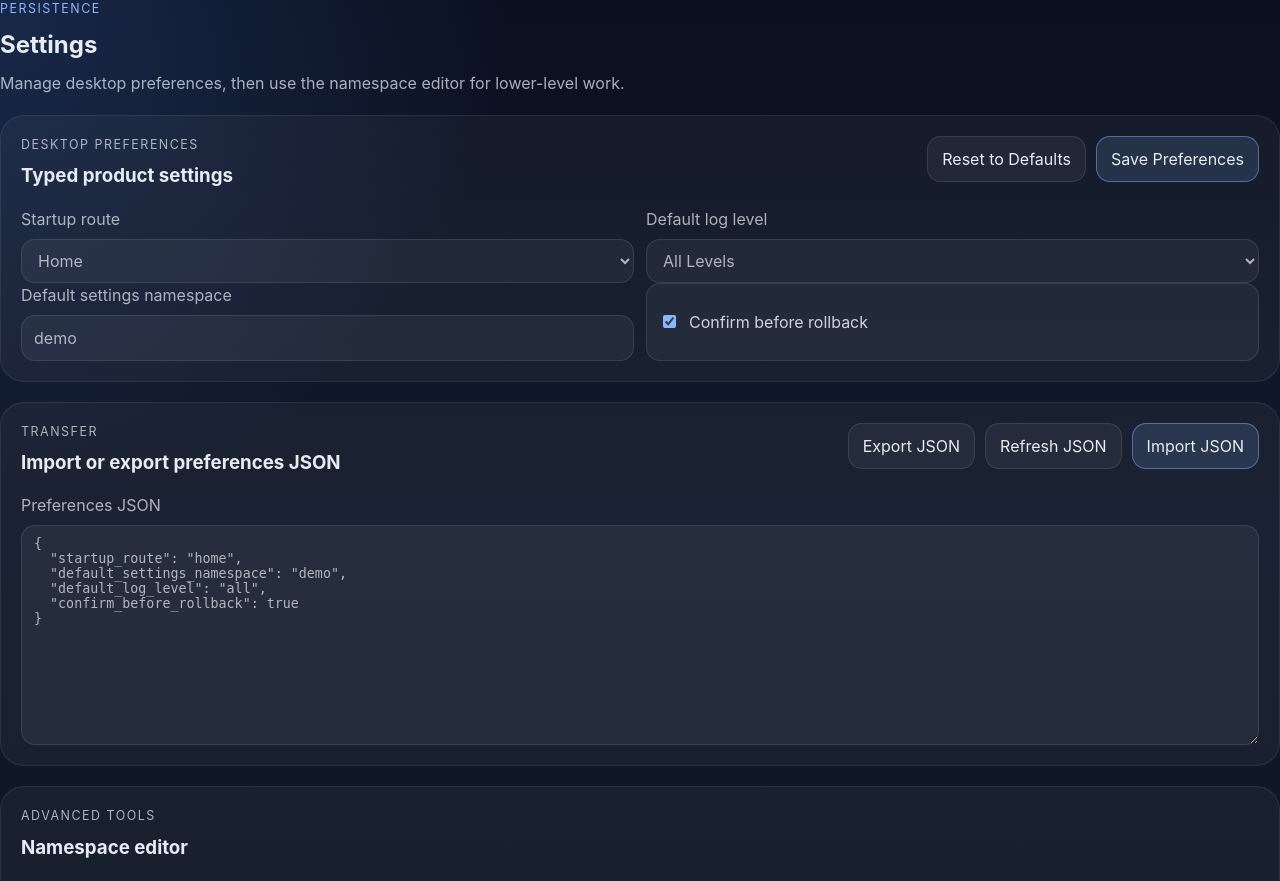
Scenario: SettingsPanel › saves typed desktop preferences
Select "Diagnostics" in the dropdown labelled "Startup route". click: x=328, y=260
box: [21,238,634,282]
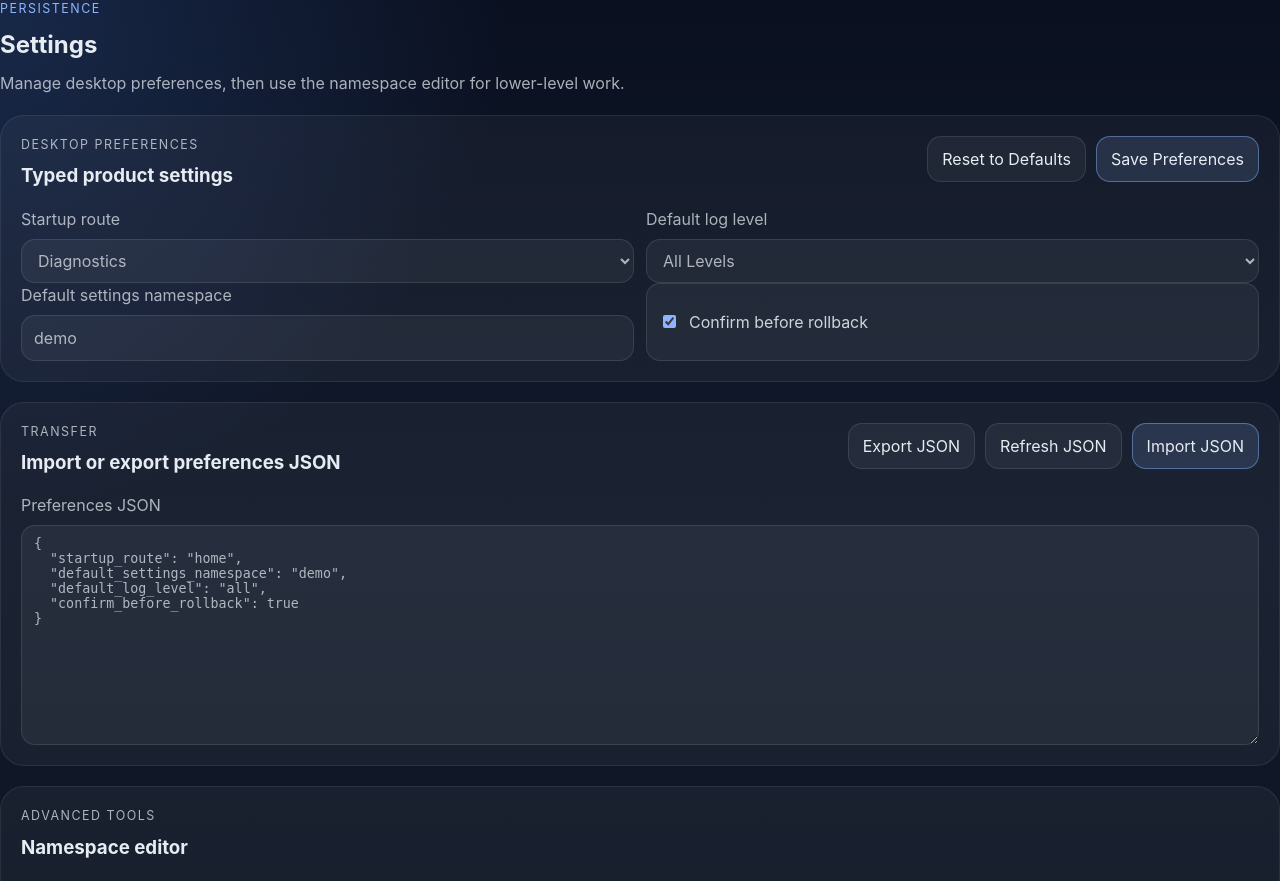
Select "Error" in the dropdown labelled "Default log level". click: x=952, y=260
box: [646,238,1259,282]
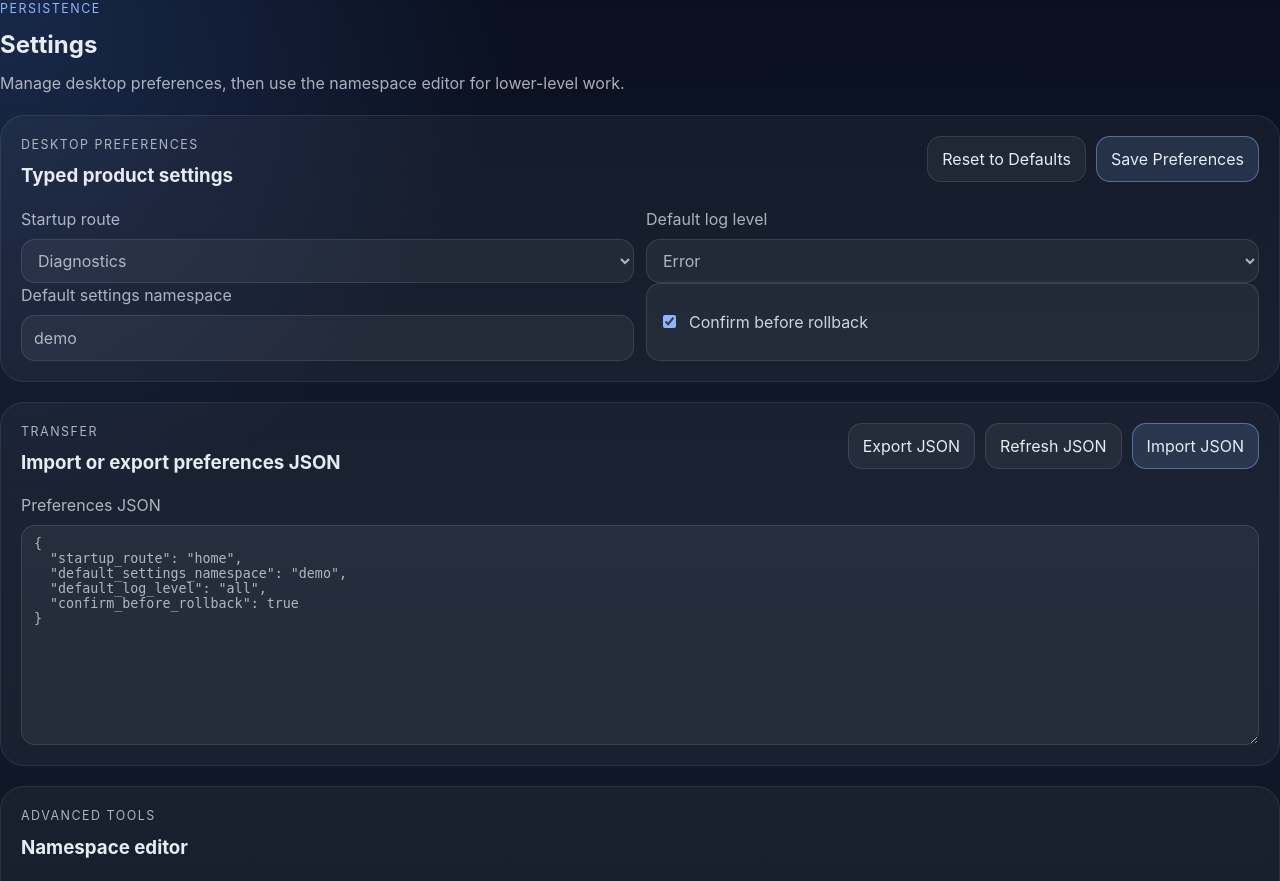
Replace the text in the field labelled "Default settings namespace" with "workspace". click: x=328, y=338
box: [21,314,634,360]
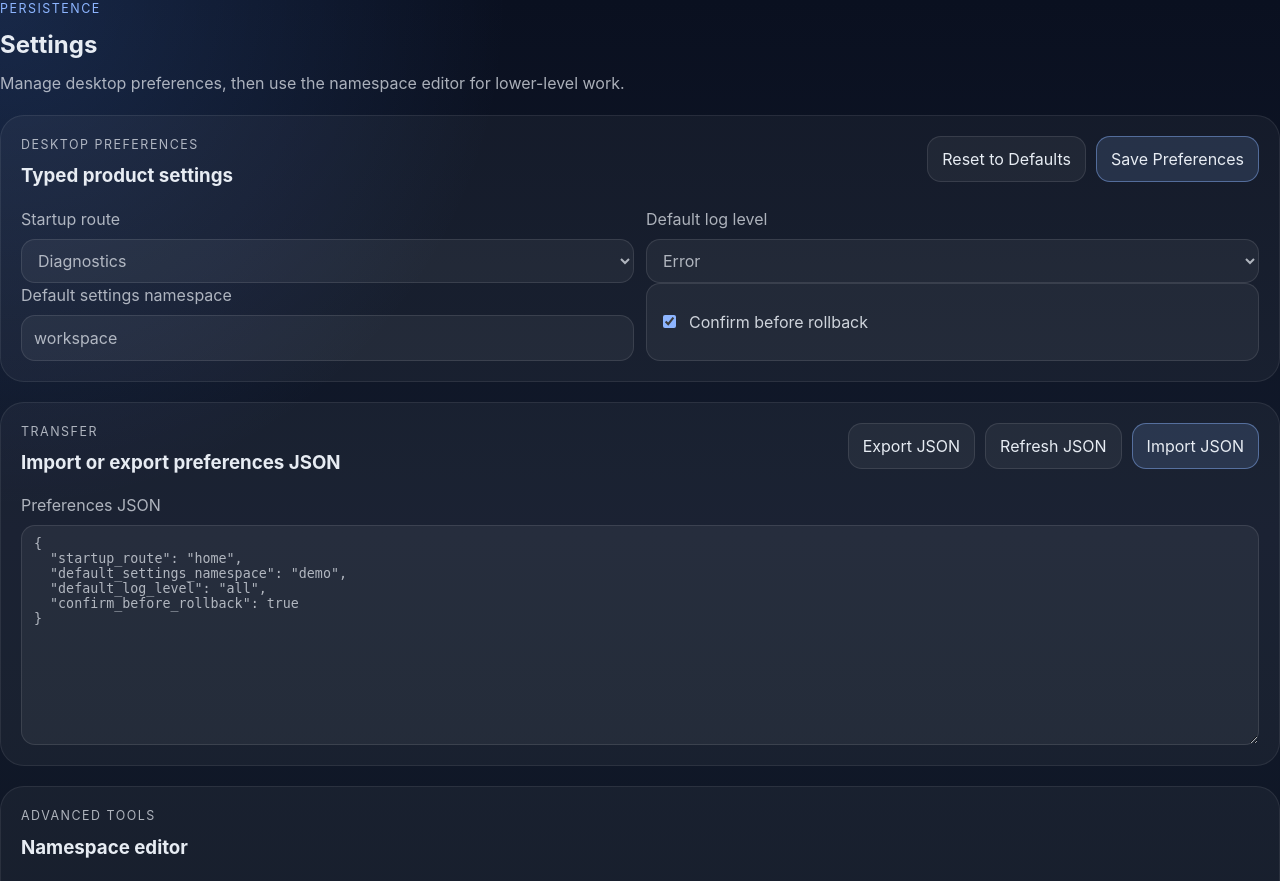
Click the checkbox labelled "Confirm before rollback". click: x=670, y=322
box: [663,315,676,328]
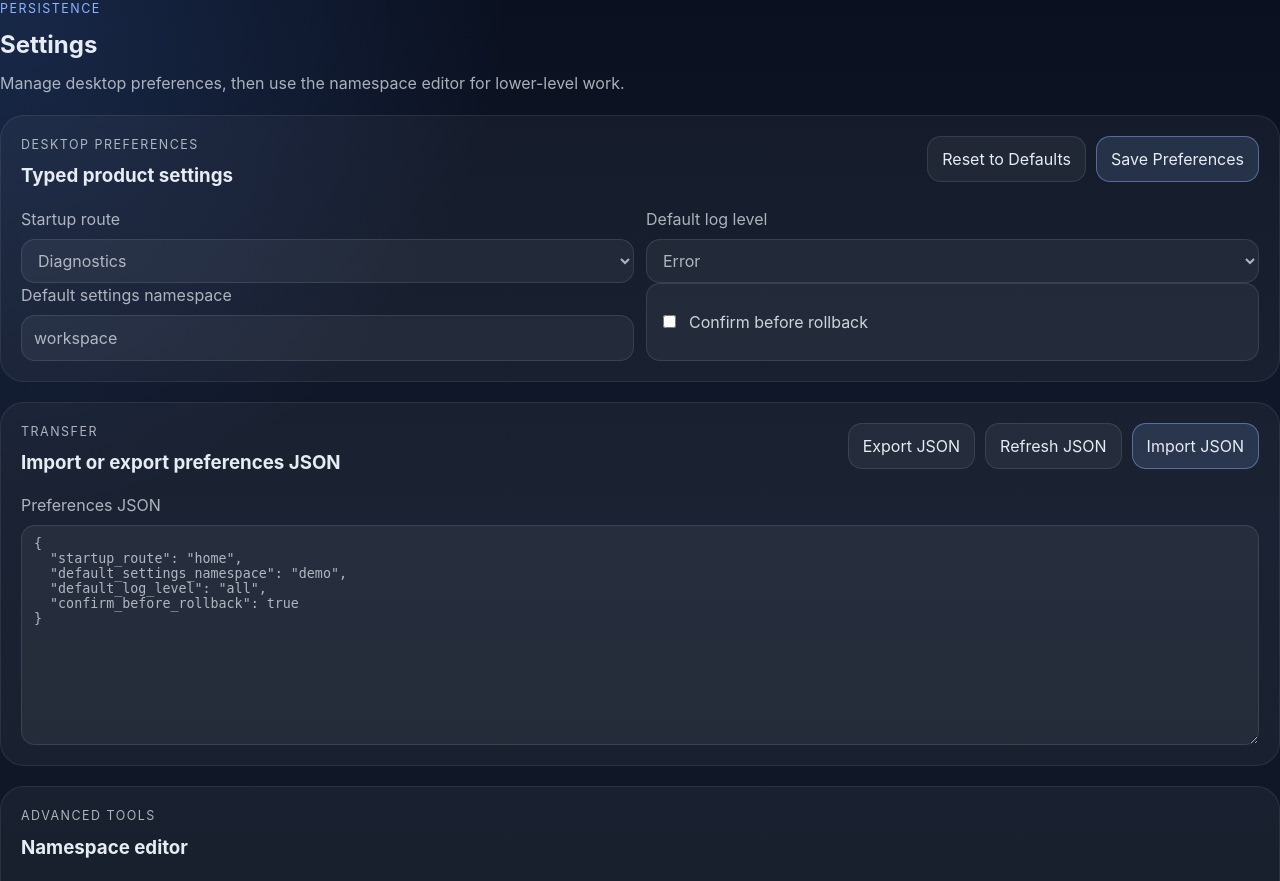
Click the button "Save Preferences". click: x=1177, y=159
box: [1096,136,1259,182]
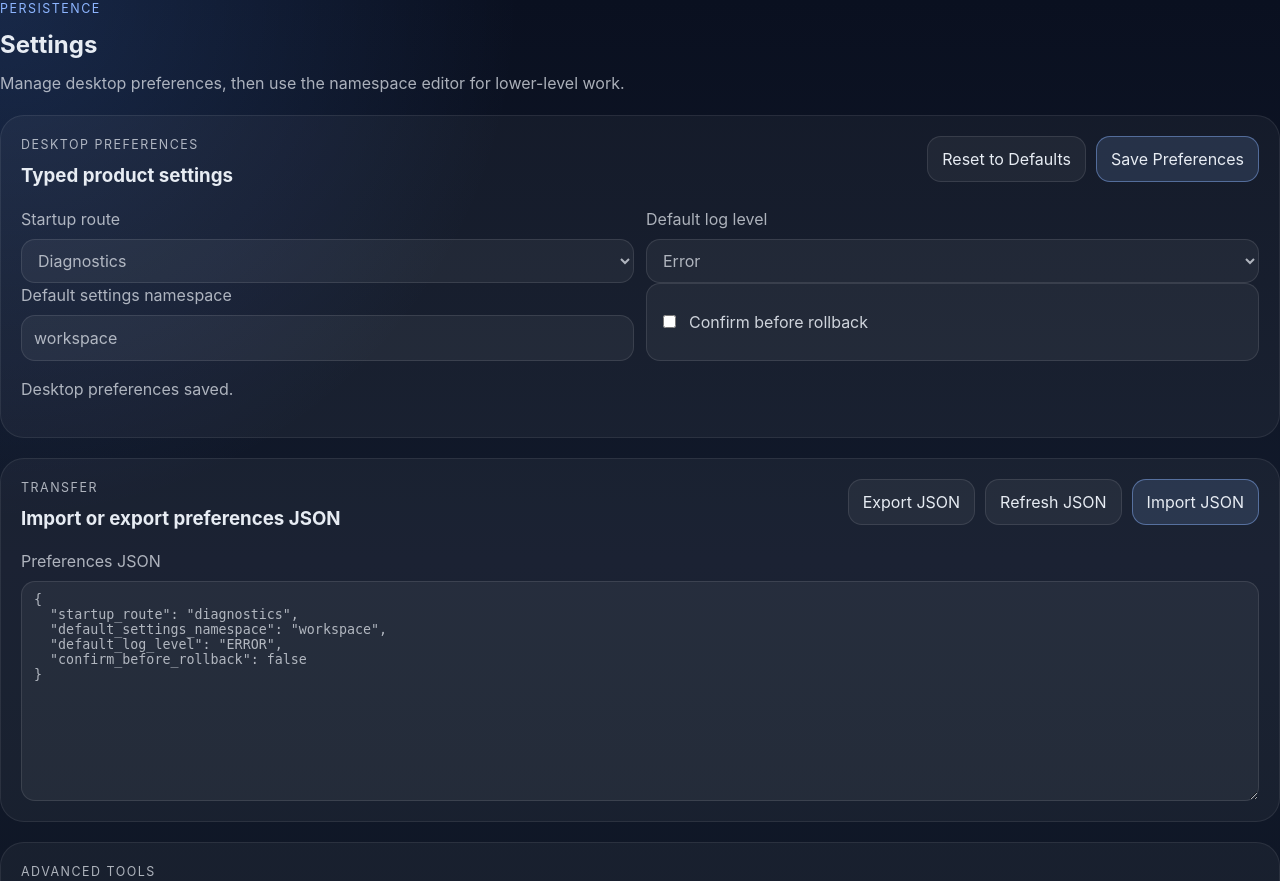
Expected: the text "Desktop preferences saved." is shown, [21,378,233,398]
